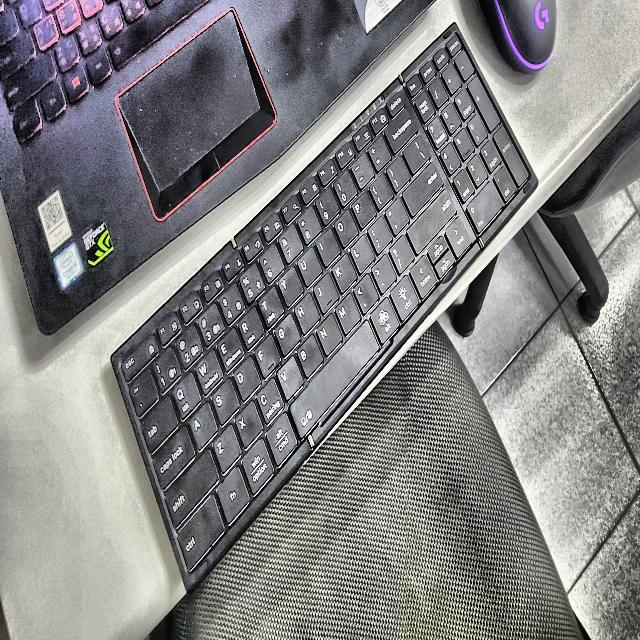laptop: (0, 0, 429, 334)
